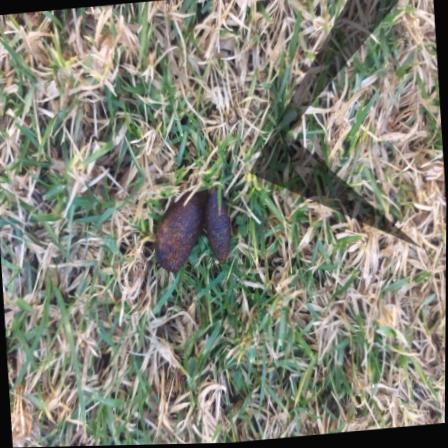dog-poop: (146, 188, 240, 273)
